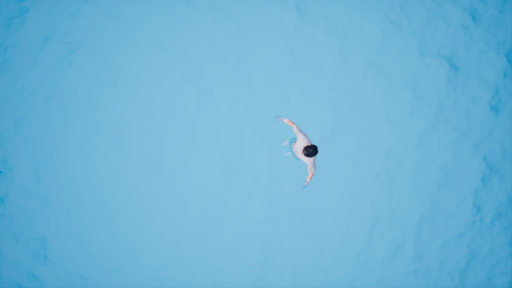person: (267, 110, 333, 189)
